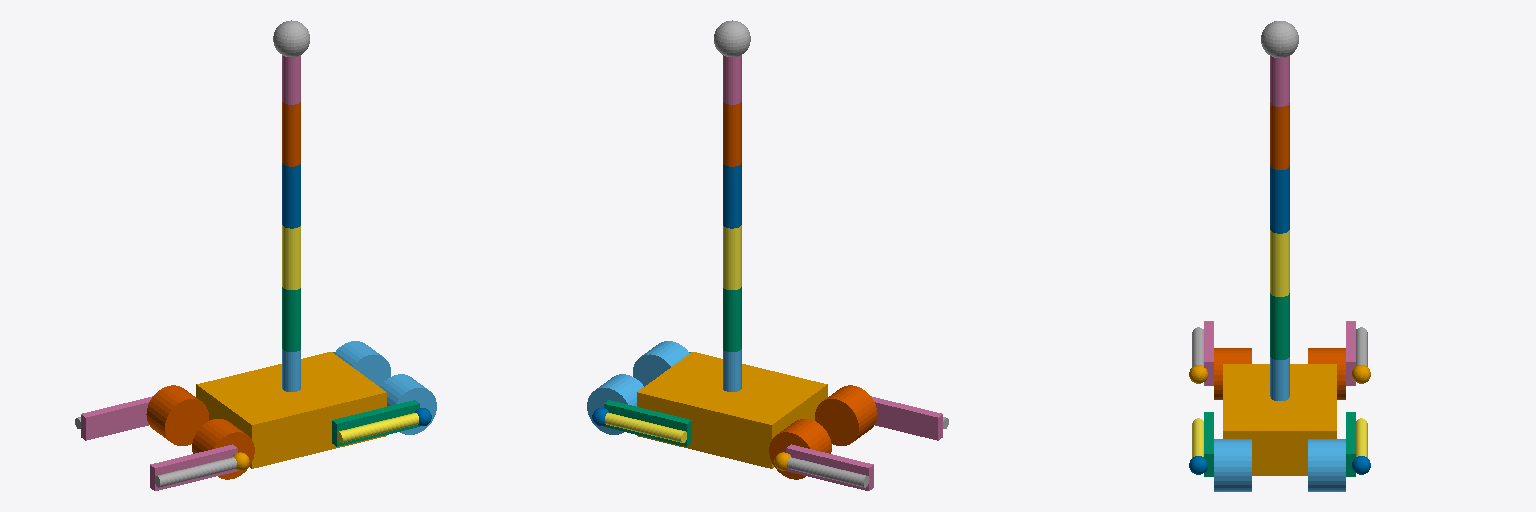
--- Render facts (derived) ---
3 views of the same robot in one strip: view 1: azimuth 30°, elevation 25°; view 2: azimuth 150°, elevation 25°; view 3: azimuth 270°, elevation 25° (orthographic).
Robot: spirit — 24 links, 23 joints (18 revolute, 5 fixed); root link body; default pose: every joint at zero.
Visible links, largest first — view 1: body, hip1, upper1, hip3, hip2, upper2, upper3, hip0, tail_link_1, tail_link_4, tail_link_3, tail_link_2 (+5 smaller); view 2: body, hip3, upper3, hip1, hip0, upper0, upper1, hip2, tail_link_1, tail_link_4, tail_link_3, tail_link_2 (+5 smaller); view 3: body, hip0, hip2, tail_link_3, tail_link_2, tail_link_4, tail_link_1, tail_mass, tail_link_5, hip1, hip3, tail_link_0 (+4 smaller).
Boxes of the visible links, x1=… form: body: x1=196, y1=352, x2=386, y2=468; hip1: x1=146, y1=385, x2=208, y2=445; upper1: x1=81, y1=396, x2=152, y2=440; hip3: x1=192, y1=419, x2=254, y2=479; hip2: x1=380, y1=374, x2=436, y2=434; upper2: x1=332, y1=400, x2=419, y2=446; upper3: x1=150, y1=444, x2=237, y2=490; hip0: x1=334, y1=341, x2=390, y2=386; tail_link_1: x1=282, y1=287, x2=300, y2=351; tail_link_4: x1=282, y1=101, x2=300, y2=166; tail_link_3: x1=282, y1=163, x2=300, y2=228; tail_link_2: x1=282, y1=225, x2=300, y2=289; body: x1=637, y1=352, x2=827, y2=468; hip3: x1=815, y1=385, x2=877, y2=445; upper3: x1=871, y1=396, x2=942, y2=440; hip1: x1=769, y1=419, x2=831, y2=479; hip0: x1=587, y1=374, x2=643, y2=434; upper0: x1=604, y1=400, x2=691, y2=446; upper1: x1=786, y1=444, x2=873, y2=490; hip2: x1=633, y1=341, x2=689, y2=386; tail_link_1: x1=723, y1=287, x2=741, y2=351; tail_link_4: x1=723, y1=101, x2=741, y2=166; tail_link_3: x1=723, y1=163, x2=741, y2=228; tail_link_2: x1=723, y1=225, x2=741, y2=289; body: x1=1223, y1=364, x2=1336, y2=475; hip0: x1=1308, y1=439, x2=1345, y2=491; hip2: x1=1214, y1=439, x2=1251, y2=491; tail_link_3: x1=1270, y1=166, x2=1289, y2=233; tail_link_2: x1=1270, y1=230, x2=1289, y2=296; tail_link_4: x1=1270, y1=103, x2=1289, y2=169; tail_link_1: x1=1270, y1=293, x2=1289, y2=359; tail_mass: x1=1261, y1=21, x2=1298, y2=57; tail_link_5: x1=1270, y1=56, x2=1289, y2=106; hip1: x1=1308, y1=348, x2=1345, y2=399; hip3: x1=1214, y1=348, x2=1251, y2=399; tail_link_0: x1=1270, y1=357, x2=1289, y2=400.
Bounding box of the posed robot: 0.7136 × 0.382 × 0.9766 m (x, y, z).
Geometry: primitives only (box / cylinder / sphere), no mesh files.

robot.urdf — spirit:
<?xml version="1.0" encoding="utf-8"?>
<!-- =================================================================================== -->
<!-- |    This document was autogenerated by xacro from xacro/spirit_gazebo_tail.urdf.xacro | -->
<!-- |    EDITING THIS FILE BY HAND IS NOT RECOMMENDED                                 | -->
<!-- =================================================================================== -->
<!-- 
MIT License (modified)

Copyright (c) 2020 Ghost Robotics
Authors:
Avik De <[email redacted]>
Tom Jacobs <[email redacted]>

Permission is hereby granted, free of charge, to any person obtaining a copy
of this **file** (the "Software"), to deal
in the Software without restriction, including without limitation the rights
to use, copy, modify, merge, publish, distribute, sublicense, and/or sell
copies of the Software, and to permit persons to whom the Software is
furnished to do so, subject to the following conditions:

The above copyright notice and this permission notice shall be included in all
copies or substantial portions of the Software.

THE SOFTWARE IS PROVIDED "AS IS", WITHOUT WARRANTY OF ANY KIND, EXPRESS OR
IMPLIED, INCLUDING BUT NOT LIMITED TO THE WARRANTIES OF MERCHANTABILITY,
FITNESS FOR A PARTICULAR PURPOSE AND NONINFRINGEMENT. IN NO EVENT SHALL THE
AUTHORS OR COPYRIGHT HOLDERS BE LIABLE FOR ANY CLAIM, DAMAGES OR OTHER
LIABILITY, WHETHER IN AN ACTION OF CONTRACT, TORT OR OTHERWISE, ARISING FROM,
OUT OF OR IN CONNECTION WITH THE SOFTWARE OR THE USE OR OTHER DEALINGS IN THE
SOFTWARE. 
-->
<robot name="spirit">
  <!-- Plugins -->
  <gazebo>
    <plugin filename="libgazebo_ros_control.so" name="gazebo_ros_control">
      <robotNamespace>/spirit</robotNamespace>
      <controlPeriod>0.002</controlPeriod>
    </plugin>
    <plugin filename="libground_truth_estimator.so" name="ground_truth_estimator">
      <updateRateHz>500.0</updateRateHz>
    </plugin>
  </gazebo>
  <!--link name="body_dummy">
		<inertial>
			<mass value="${bodyMass}" />
			<inertia ixx="0.05" ixy="0" ixz="0" iyy="0.1" iyz="0" izz="0.1" />
		</inertial>
	</link>
	<joint name="dummy_joint" type="fixed">
		<parent link="body_dummy" />
		<child link="body" />
	</joint-->
  <!-- Body -->
  <link name="body">
    <visual>
      <origin rpy="0 0 0" xyz="0 0 0"/>
      <geometry>
        <box size="0.335 0.24 0.104"/>
      </geometry>
      <material name="darkgray"/>
    </visual>
    <inertial>
      <mass value="7.388"/>
      <!--<mass value="${bodyMass}" /> -->
      <!-- Uniform box -->
      <!-- <inertia ixx="1/12*${bodyMass}*(${bodyWidth}*${bodyWidth} + ${bodyHeight}*${bodyHeight})"  ixy="0"  ixz="0" iyy="1/12*${bodyMass}*(${bodyLength}*${bodyLength} + ${bodyHeight}*${bodyHeight})" iyz="0" izz="1/12*${bodyMass}*(${bodyLength}*${bodyLength} + ${bodyWidth}*${bodyWidth})"/> -->
      <inertia ixx="0.0642434782" ixy="0" ixz="0" iyy="0.1284869565" iyz="0" izz="0.1284869565"/>
      <!--<inertia ixx="0.05" ixy="0" ixz="0" iyy="0.1" iyz="0" izz="0.1" />-->
    </inertial>
    <!-- Just copy geometry for collision -->
    <collision>
      <origin rpy="0 0 0" xyz="0 0 0"/>
      <geometry>
        <box size="0.335 0.24 0.104"/>
      </geometry>
    </collision>
  </link>
  <gazebo reference="body">
    <material>Gazebo/Black</material>
  </gazebo>
  <!-- Hip motor -->
  <link name="hip0">
    <visual>
      <origin rpy="1.5707963268 0 0" xyz="0 0.028 0"/>
      <geometry>
        <cylinder length="0.08" radius="0.055"/>
      </geometry>
    </visual>
    <collision>
      <origin rpy="1.5707963268 0 0" xyz="0 0.028 0"/>
      <geometry>
        <cylinder length="0.08" radius="0.055"/>
      </geometry>
    </collision>
    <inertial>
      <origin rpy="1.5707963268 0 0" xyz="0 0.028 0"/>
      <mass value="0.575"/>
      <inertia ixx="0.000741510416667" ixy="0" ixz="0" iyy="0.000741510416667" iyz="0" izz="0.0008696875"/>
      <!-- Okay for now... forgot when cylinder is formed what direction is x pointing in -->
      <!--inertia ixx="0.00066963541" ixy="0" ixz="0" iyy="0.00066963541" iyz="0" izz="0.0008696875" /-->
    </inertial>
  </link>
  <gazebo reference="hip0">
    <material>Gazebo/Grey</material>
  </gazebo>
  <!-- Abduction joint. Joint names are: 8 9 10 11 -->
  <joint name="8" type="revolute">
    <parent link="body"/>
    <child link="hip0"/>
    <axis xyz="1 0 0"/>
    <origin xyz="0.2263 0.07 0"/>
    <limit effort="21" lower="-0.707" upper="0.707" velocity="37.7"/>
    <dynamics damping="0.0" friction="0.0"/>
  </joint>
  <!-- Transmission elements required for Gazebo -->
  <transmission name="transmission_8">
    <type>transmission_interface/SimpleTransmission</type>
    <joint name="8">
      <hardwareInterface>hardware_interface/EffortJointInterface</hardwareInterface>
    </joint>
    <actuator name="motor_8">
      <hardwareInterface>EffortJointInterface</hardwareInterface>
      <mechanicalReduction>1</mechanicalReduction>
    </actuator>
  </transmission>
  <!-- Upper leg -->
  <link name="upper0">
    <visual>
      <origin rpy="0 0 0" xyz="-0.103 -0.022 0"/>
      <geometry>
        <box size="0.206 0.022 0.055"/>
      </geometry>
      <material name="silver"/>
    </visual>
    <collision>
      <origin rpy="0 0 0" xyz="-0.103 -0.022 0"/>
      <geometry>
        <box size="0.206 0.022 0.055"/>
      </geometry>
    </collision>
    <inertial>
      <origin rpy="0 0 0" xyz="-0.103 -0.022 0"/>
      <mass value="0.792"/>
      <!--<inertia ixx="${upperLegIxx}" ixy="0" ixz="0" iyy="${upperLegIyy}" iyz="0" izz="${upperLegIzz}" /> -->
      <inertia ixx="0.000231594" ixy="0" ixz="0" iyy="0.003000426" iyz="0" izz="0.00283272"/>
    </inertial>
  </link>
  <gazebo reference="upper0">
    <self_collide>0</self_collide>
    <material>Gazebo/DarkGrey</material>
  </gazebo>
  <!-- Hip joint. (Motor to upper leg). Joint names are: 0 2 4 6 -->
  <joint name="0" type="revolute">
    <parent link="hip0"/>
    <child link="upper0"/>
    <axis xyz="0 -1 0"/>
    <origin xyz="0 0.10098 0"/>
    <!--  rpy="0 -0.3 0" -->
    <limit effort="21" lower="-1.57" upper="3.14" velocity="37.7"/>
    <dynamics damping="0.0" friction="0.0"/>
  </joint>
  <!-- Transmission elements required for Gazebo -->
  <transmission name="transmission_0">
    <type>transmission_interface/SimpleTransmission</type>
    <joint name="0">
      <hardwareInterface>hardware_interface/EffortJointInterface</hardwareInterface>
    </joint>
    <actuator name="motor_0">
      <hardwareInterface>EffortJointInterface</hardwareInterface>
      <mechanicalReduction>1</mechanicalReduction>
    </actuator>
  </transmission>
  <!-- Lower leg -->
  <link name="lower0">
    <self_collide>0</self_collide>
    <visual>
      <origin rpy="0 1.5707963268 0" xyz="0.103 0 0"/>
      <geometry>
        <cylinder length="0.206" radius="0.013"/>
      </geometry>
      <material name="darkgray"/>
    </visual>
    <collision>
      <origin rpy="0 1.5707963268 0" xyz="0.103 0 0"/>
      <geometry>
        <cylinder length="0.206" radius="0.013"/>
      </geometry>
    </collision>
    <inertial>
      <origin rpy="0 0 0" xyz="0.103 0 0"/>
      <mass value="0.075"/>
      <!--inertia ixx="${lowerLegIxx}" ixy="0" ixz="0" iyy="${lowerLegIyy}" iyz="0" izz="${lowerLegIzz}" /-->
      <inertia ixx="2.193125e-05" ixy="0" ixz="0" iyy="0.00028413125" iyz="0" izz="0.00026825"/>
    </inertial>
  </link>
  <gazebo reference="lower0">
    <material>Gazebo/Grey</material>
  </gazebo>
  <!-- Knee joint. Joint names are: 1 3 5 7 -->
  <joint name="1" type="revolute">
    <parent link="upper0"/>
    <child link="lower0"/>
    <axis xyz="0 1 0"/>
    <origin xyz="-0.206 0 0"/>
    <!--rpy="0 0.5 0"-->
    <!--<limit effort="${jointEffortLimit}" velocity="${jointSpeedLimit}" lower="0" upper="${pi}" />-->
    <limit effort="32" lower="-6.28" upper="6.28" velocity="25.1"/>
    <dynamics damping="0.0" friction="0.0"/>
  </joint>
  <!-- Transmission elements required for Gazebo -->
  <transmission name="transmission_1">
    <type>transmission_interface/SimpleTransmission</type>
    <joint name="1">
      <hardwareInterface>hardware_interface/EffortJointInterface</hardwareInterface>
    </joint>
    <actuator name="motor_1">
      <hardwareInterface>EffortJointInterface</hardwareInterface>
      <mechanicalReduction>1</mechanicalReduction>
    </actuator>
  </transmission>
  <!-- Toe -->
  <link name="toe0">
    <contact>
      <friction_anchor/>
      <stiffness value="30000.0"/>
      <damping value="1000.0"/>
      <spinning_friction value="0.3"/>
      <lateral_friction value="50.0"/>
    </contact>
    <visual>
      <origin rpy="0 0 0" xyz="0 0 0"/>
      <geometry>
        <sphere radius="0.02"/>
      </geometry>
      <material name="darkgray"/>
    </visual>
    <collision>
      <origin rpy="0 0 0" xyz="0 0 0"/>
      <geometry>
        <sphere radius="0.02"/>
      </geometry>
    </collision>
    <inertial>
      <mass value="0.015"/>
      <inertia ixx="0.000025" ixy="0" ixz="0" iyy="0.000025" iyz="0" izz="0.000025"/>
      <!-- <inertia ixx="2/5*${toeMass}*${toeRadius}*${toeRadius}"  ixy="0"  ixz="0" iyy="2/5*${toeMass}*${toeRadius}*${toeRadius}" iyz="0" izz="2/5*${toeMass}*${toeRadius}*${toeRadius}" /> -->
    </inertial>
  </link>
  <gazebo reference="toe0">
    <self_collide>0</self_collide>
    <material>Gazebo/Black</material>
    <collision>
      <surface>
        <bounce>
          <restitution_coefficient>0</restitution_coefficient>
          <threshold>1e+06</threshold>
        </bounce>
        <friction>
          <torsional>
            <coefficient>0.3</coefficient>
          </torsional>
          <ode>
            <mu>100.0</mu>
            <mu2>50.0</mu2>
          </ode>
          <bullet>
            <rolling_friction>0.3</rolling_friction>
            <friction2>50.0</friction2>
          </bullet>
        </friction>
        <contact>
          <bullet>
            <kp>30000.0</kp>
            <kd>1000.0</kd>
          </bullet>
          <ode>
            <kp>30000.0</kp>
            <kd>1000.0</kd>
          </ode>
        </contact>
      </surface>
    </collision>
  </gazebo>
  <joint name="jtoe0" type="fixed">
    <parent link="lower0"/>
    <child link="toe0"/>
    <origin xyz="0.206 0 -0.0"/>
    <dynamics damping="0.0" friction="0.0"/>
  </joint>
  <!-- Hip motor -->
  <link name="hip1">
    <visual>
      <origin rpy="1.5707963268 0 0" xyz="0 0.028 0"/>
      <geometry>
        <cylinder length="0.08" radius="0.055"/>
      </geometry>
    </visual>
    <collision>
      <origin rpy="1.5707963268 0 0" xyz="0 0.028 0"/>
      <geometry>
        <cylinder length="0.08" radius="0.055"/>
      </geometry>
    </collision>
    <inertial>
      <origin rpy="1.5707963268 0 0" xyz="0 0.028 0"/>
      <mass value="0.575"/>
      <inertia ixx="0.000741510416667" ixy="0" ixz="0" iyy="0.000741510416667" iyz="0" izz="0.0008696875"/>
      <!-- Okay for now... forgot when cylinder is formed what direction is x pointing in -->
      <!--inertia ixx="0.00066963541" ixy="0" ixz="0" iyy="0.00066963541" iyz="0" izz="0.0008696875" /-->
    </inertial>
  </link>
  <gazebo reference="hip1">
    <material>Gazebo/Grey</material>
  </gazebo>
  <!-- Abduction joint. Joint names are: 8 9 10 11 -->
  <joint name="9" type="revolute">
    <parent link="body"/>
    <child link="hip1"/>
    <axis xyz="1 0 0"/>
    <origin xyz="-0.2263 0.07 0"/>
    <limit effort="21" lower="-0.707" upper="0.707" velocity="37.7"/>
    <dynamics damping="0.0" friction="0.0"/>
  </joint>
  <!-- Transmission elements required for Gazebo -->
  <transmission name="transmission_9">
    <type>transmission_interface/SimpleTransmission</type>
    <joint name="9">
      <hardwareInterface>hardware_interface/EffortJointInterface</hardwareInterface>
    </joint>
    <actuator name="motor_9">
      <hardwareInterface>EffortJointInterface</hardwareInterface>
      <mechanicalReduction>1</mechanicalReduction>
    </actuator>
  </transmission>
  <!-- Upper leg -->
  <link name="upper1">
    <visual>
      <origin rpy="0 0 0" xyz="-0.103 -0.022 0"/>
      <geometry>
        <box size="0.206 0.022 0.055"/>
      </geometry>
      <material name="silver"/>
    </visual>
    <collision>
      <origin rpy="0 0 0" xyz="-0.103 -0.022 0"/>
      <geometry>
        <box size="0.206 0.022 0.055"/>
      </geometry>
    </collision>
    <inertial>
      <origin rpy="0 0 0" xyz="-0.103 -0.022 0"/>
      <mass value="0.792"/>
      <!--<inertia ixx="${upperLegIxx}" ixy="0" ixz="0" iyy="${upperLegIyy}" iyz="0" izz="${upperLegIzz}" /> -->
      <inertia ixx="0.000231594" ixy="0" ixz="0" iyy="0.003000426" iyz="0" izz="0.00283272"/>
    </inertial>
  </link>
  <gazebo reference="upper1">
    <self_collide>0</self_collide>
    <material>Gazebo/DarkGrey</material>
  </gazebo>
  <!-- Hip joint. (Motor to upper leg). Joint names are: 0 2 4 6 -->
  <joint name="2" type="revolute">
    <parent link="hip1"/>
    <child link="upper1"/>
    <axis xyz="0 -1 0"/>
    <origin xyz="0 0.10098 0"/>
    <!--  rpy="0 -0.3 0" -->
    <limit effort="21" lower="-1.57" upper="3.14" velocity="37.7"/>
    <dynamics damping="0.0" friction="0.0"/>
  </joint>
  <!-- Transmission elements required for Gazebo -->
  <transmission name="transmission_2">
    <type>transmission_interface/SimpleTransmission</type>
    <joint name="2">
      <hardwareInterface>hardware_interface/EffortJointInterface</hardwareInterface>
    </joint>
    <actuator name="motor_2">
      <hardwareInterface>EffortJointInterface</hardwareInterface>
      <mechanicalReduction>1</mechanicalReduction>
    </actuator>
  </transmission>
  <!-- Lower leg -->
  <link name="lower1">
    <self_collide>0</self_collide>
    <visual>
      <origin rpy="0 1.5707963268 0" xyz="0.103 0 0"/>
      <geometry>
        <cylinder length="0.206" radius="0.013"/>
      </geometry>
      <material name="darkgray"/>
    </visual>
    <collision>
      <origin rpy="0 1.5707963268 0" xyz="0.103 0 0"/>
      <geometry>
        <cylinder length="0.206" radius="0.013"/>
      </geometry>
    </collision>
    <inertial>
      <origin rpy="0 0 0" xyz="0.103 0 0"/>
      <mass value="0.075"/>
      <!--inertia ixx="${lowerLegIxx}" ixy="0" ixz="0" iyy="${lowerLegIyy}" iyz="0" izz="${lowerLegIzz}" /-->
      <inertia ixx="2.193125e-05" ixy="0" ixz="0" iyy="0.00028413125" iyz="0" izz="0.00026825"/>
    </inertial>
  </link>
  <gazebo reference="lower1">
    <material>Gazebo/Grey</material>
  </gazebo>
  <!-- Knee joint. Joint names are: 1 3 5 7 -->
  <joint name="3" type="revolute">
    <parent link="upper1"/>
    <child link="lower1"/>
    <axis xyz="0 1 0"/>
    <origin xyz="-0.206 0 0"/>
    <!--rpy="0 0.5 0"-->
    <!--<limit effort="${jointEffortLimit}" velocity="${jointSpeedLimit}" lower="0" upper="${pi}" />-->
    <limit effort="32" lower="-6.28" upper="6.28" velocity="25.1"/>
    <dynamics damping="0.0" friction="0.0"/>
  </joint>
  <!-- Transmission elements required for Gazebo -->
  <transmission name="transmission_3">
    <type>transmission_interface/SimpleTransmission</type>
    <joint name="3">
      <hardwareInterface>hardware_interface/EffortJointInterface</hardwareInterface>
    </joint>
    <actuator name="motor_3">
      <hardwareInterface>EffortJointInterface</hardwareInterface>
      <mechanicalReduction>1</mechanicalReduction>
    </actuator>
  </transmission>
  <!-- Toe -->
  <link name="toe1">
    <contact>
      <friction_anchor/>
      <stiffness value="30000.0"/>
      <damping value="1000.0"/>
      <spinning_friction value="0.3"/>
      <lateral_friction value="50.0"/>
    </contact>
    <visual>
      <origin rpy="0 0 0" xyz="0 0 0"/>
      <geometry>
        <sphere radius="0.02"/>
      </geometry>
      <material name="darkgray"/>
    </visual>
    <collision>
      <origin rpy="0 0 0" xyz="0 0 0"/>
      <geometry>
        <sphere radius="0.02"/>
      </geometry>
    </collision>
    <inertial>
      <mass value="0.015"/>
      <inertia ixx="0.000025" ixy="0" ixz="0" iyy="0.000025" iyz="0" izz="0.000025"/>
      <!-- <inertia ixx="2/5*${toeMass}*${toeRadius}*${toeRadius}"  ixy="0"  ixz="0" iyy="2/5*${toeMass}*${toeRadius}*${toeRadius}" iyz="0" izz="2/5*${toeMass}*${toeRadius}*${toeRadius}" /> -->
    </inertial>
  </link>
  <gazebo reference="toe1">
    <self_collide>0</self_collide>
    <material>Gazebo/Black</material>
    <collision>
      <surface>
        <bounce>
          <restitution_coefficient>0</restitution_coefficient>
          <threshold>1e+06</threshold>
        </bounce>
        <friction>
          <torsional>
            <coefficient>0.3</coefficient>
          </torsional>
          <ode>
            <mu>100.0</mu>
            <mu2>50.0</mu2>
          </ode>
          <bullet>
            <rolling_friction>0.3</rolling_friction>
            <friction2>50.0</friction2>
          </bullet>
        </friction>
        <contact>
          <bullet>
            <kp>30000.0</kp>
            <kd>1000.0</kd>
          </bullet>
          <ode>
            <kp>30000.0</kp>
            <kd>1000.0</kd>
          </ode>
        </contact>
      </surface>
    </collision>
  </gazebo>
  <joint name="jtoe1" type="fixed">
    <parent link="lower1"/>
    <child link="toe1"/>
    <origin xyz="0.206 0 -0.0"/>
    <dynamics damping="0.0" friction="0.0"/>
  </joint>
  <!-- Hip motor -->
  <link name="hip2">
    <visual>
      <origin rpy="1.5707963268 0 0" xyz="0 -0.028 0"/>
      <geometry>
        <cylinder length="0.08" radius="0.055"/>
      </geometry>
    </visual>
    <collision>
      <origin rpy="1.5707963268 0 0" xyz="0 -0.028 0"/>
      <geometry>
        <cylinder length="0.08" radius="0.055"/>
      </geometry>
    </collision>
    <inertial>
      <origin rpy="1.5707963268 0 0" xyz="0 -0.028 0"/>
      <mass value="0.575"/>
      <inertia ixx="0.000741510416667" ixy="0" ixz="0" iyy="0.000741510416667" iyz="0" izz="0.0008696875"/>
      <!-- Okay for now... forgot when cylinder is formed what direction is x pointing in -->
      <!--inertia ixx="0.00066963541" ixy="0" ixz="0" iyy="0.00066963541" iyz="0" izz="0.0008696875" /-->
    </inertial>
  </link>
  <gazebo reference="hip2">
    <material>Gazebo/Grey</material>
  </gazebo>
  <!-- Abduction joint. Joint names are: 8 9 10 11 -->
  <joint name="10" type="revolute">
    <parent link="body"/>
    <child link="hip2"/>
    <axis xyz="1 0 0"/>
    <origin xyz="0.2263 -0.07 0"/>
    <limit effort="21" lower="-0.707" upper="0.707" velocity="37.7"/>
    <dynamics damping="0.0" friction="0.0"/>
  </joint>
  <!-- Transmission elements required for Gazebo -->
  <transmission name="transmission_10">
    <type>transmission_interface/SimpleTransmission</type>
    <joint name="10">
      <hardwareInterface>hardware_interface/EffortJointInterface</hardwareInterface>
    </joint>
    <actuator name="motor_10">
      <hardwareInterface>EffortJointInterface</hardwareInterface>
      <mechanicalReduction>1</mechanicalReduction>
    </actuator>
  </transmission>
  <!-- Upper leg -->
  <link name="upper2">
    <visual>
      <origin rpy="0 0 0" xyz="-0.103 0.022 0"/>
      <geometry>
        <box size="0.206 0.022 0.055"/>
      </geometry>
      <material name="silver"/>
    </visual>
    <collision>
      <origin rpy="0 0 0" xyz="-0.103 0.022 0"/>
      <geometry>
        <box size="0.206 0.022 0.055"/>
      </geometry>
    </collision>
    <inertial>
      <origin rpy="0 0 0" xyz="-0.103 0.022 0"/>
      <mass value="0.792"/>
      <!--<inertia ixx="${upperLegIxx}" ixy="0" ixz="0" iyy="${upperLegIyy}" iyz="0" izz="${upperLegIzz}" /> -->
      <inertia ixx="0.000231594" ixy="0" ixz="0" iyy="0.003000426" iyz="0" izz="0.00283272"/>
    </inertial>
  </link>
  <gazebo reference="upper2">
    <self_collide>0</self_collide>
    <material>Gazebo/DarkGrey</material>
  </gazebo>
  <!-- Hip joint. (Motor to upper leg). Joint names are: 0 2 4 6 -->
  <joint name="4" type="revolute">
    <parent link="hip2"/>
    <child link="upper2"/>
    <axis xyz="0 -1 0"/>
    <origin xyz="0 -0.10098 0"/>
    <!--  rpy="0 -0.3 0" -->
    <limit effort="21" lower="-1.57" upper="3.14" velocity="37.7"/>
    <dynamics damping="0.0" friction="0.0"/>
  </joint>
  <!-- Transmission elements required for Gazebo -->
  <transmission name="transmission_4">
    <type>transmission_interface/SimpleTransmission</type>
    <joint name="4">
      <hardwareInterface>hardware_interface/EffortJointInterface</hardwareInterface>
    </joint>
    <actuator name="motor_4">
      <hardwareInterface>EffortJointInterface</hardwareInterface>
      <mechanicalReduction>1</mechanicalReduction>
    </actuator>
  </transmission>
  <!-- Lower leg -->
  <link name="lower2">
    <self_collide>0</self_collide>
    <visual>
      <origin rpy="0 1.5707963268 0" xyz="0.103 0 0"/>
      <geometry>
        <cylinder length="0.206" radius="0.013"/>
      </geometry>
      <material name="darkgray"/>
    </visual>
    <collision>
      <origin rpy="0 1.5707963268 0" xyz="0.103 0 0"/>
      <geometry>
        <cylinder length="0.206" radius="0.013"/>
      </geometry>
    </collision>
    <inertial>
      <origin rpy="0 0 0" xyz="0.103 0 0"/>
      <mass value="0.075"/>
      <!--inertia ixx="${lowerLegIxx}" ixy="0" ixz="0" iyy="${lowerLegIyy}" iyz="0" izz="${lowerLegIzz}" /-->
      <inertia ixx="2.193125e-05" ixy="0" ixz="0" iyy="0.00028413125" iyz="0" izz="0.00026825"/>
    </inertial>
  </link>
  <gazebo reference="lower2">
    <material>Gazebo/Grey</material>
  </gazebo>
  <!-- Knee joint. Joint names are: 1 3 5 7 -->
  <joint name="5" type="revolute">
    <parent link="upper2"/>
    <child link="lower2"/>
    <axis xyz="0 1 0"/>
    <origin xyz="-0.206 0 0"/>
    <!--rpy="0 0.5 0"-->
    <!--<limit effort="${jointEffortLimit}" velocity="${jointSpeedLimit}" lower="0" upper="${pi}" />-->
    <limit effort="32" lower="-6.28" upper="6.28" velocity="25.1"/>
    <dynamics damping="0.0" friction="0.0"/>
  </joint>
  <!-- Transmission elements required for Gazebo -->
  <transmission name="transmission_5">
    <type>transmission_interface/SimpleTransmission</type>
    <joint name="5">
      <hardwareInterface>hardware_interface/EffortJointInterface</hardwareInterface>
    </joint>
    <actuator name="motor_5">
      <hardwareInterface>EffortJointInterface</hardwareInterface>
      <mechanicalReduction>1</mechanicalReduction>
    </actuator>
  </transmission>
  <!-- Toe -->
  <link name="toe2">
    <contact>
      <friction_anchor/>
      <stiffness value="30000.0"/>
      <damping value="1000.0"/>
      <spinning_friction value="0.3"/>
      <lateral_friction value="50.0"/>
    </contact>
    <visual>
      <origin rpy="0 0 0" xyz="0 0 0"/>
      <geometry>
        <sphere radius="0.02"/>
      </geometry>
      <material name="darkgray"/>
    </visual>
    <collision>
      <origin rpy="0 0 0" xyz="0 0 0"/>
      <geometry>
        <sphere radius="0.02"/>
      </geometry>
    </collision>
    <inertial>
      <mass value="0.015"/>
      <inertia ixx="0.000025" ixy="0" ixz="0" iyy="0.000025" iyz="0" izz="0.000025"/>
      <!-- <inertia ixx="2/5*${toeMass}*${toeRadius}*${toeRadius}"  ixy="0"  ixz="0" iyy="2/5*${toeMass}*${toeRadius}*${toeRadius}" iyz="0" izz="2/5*${toeMass}*${toeRadius}*${toeRadius}" /> -->
    </inertial>
  </link>
  <gazebo reference="toe2">
    <self_collide>0</self_collide>
    <material>Gazebo/Black</material>
    <collision>
      <surface>
        <bounce>
          <restitution_coefficient>0</restitution_coefficient>
          <threshold>1e+06</threshold>
        </bounce>
        <friction>
          <torsional>
            <coefficient>0.3</coefficient>
          </torsional>
          <ode>
            <mu>100.0</mu>
            <mu2>50.0</mu2>
          </ode>
          <bullet>
            <rolling_friction>0.3</rolling_friction>
            <friction2>50.0</friction2>
          </bullet>
        </friction>
        <contact>
          <bullet>
            <kp>30000.0</kp>
            <kd>1000.0</kd>
          </bullet>
          <ode>
            <kp>30000.0</kp>
            <kd>1000.0</kd>
          </ode>
        </contact>
      </surface>
    </collision>
  </gazebo>
  <joint name="jtoe2" type="fixed">
    <parent link="lower2"/>
    <child link="toe2"/>
    <origin xyz="0.206 0 -0.0"/>
    <dynamics damping="0.0" friction="0.0"/>
  </joint>
  <!-- Hip motor -->
  <link name="hip3">
    <visual>
      <origin rpy="1.5707963268 0 0" xyz="0 -0.028 0"/>
      <geometry>
        <cylinder length="0.08" radius="0.055"/>
      </geometry>
    </visual>
    <collision>
      <origin rpy="1.5707963268 0 0" xyz="0 -0.028 0"/>
      <geometry>
        <cylinder length="0.08" radius="0.055"/>
      </geometry>
    </collision>
    <inertial>
      <origin rpy="1.5707963268 0 0" xyz="0 -0.028 0"/>
      <mass value="0.575"/>
      <inertia ixx="0.000741510416667" ixy="0" ixz="0" iyy="0.000741510416667" iyz="0" izz="0.0008696875"/>
      <!-- Okay for now... forgot when cylinder is formed what direction is x pointing in -->
      <!--inertia ixx="0.00066963541" ixy="0" ixz="0" iyy="0.00066963541" iyz="0" izz="0.0008696875" /-->
    </inertial>
  </link>
  <gazebo reference="hip3">
    <material>Gazebo/Grey</material>
  </gazebo>
  <!-- Abduction joint. Joint names are: 8 9 10 11 -->
  <joint name="11" type="revolute">
    <parent link="body"/>
    <child link="hip3"/>
    <axis xyz="1 0 0"/>
    <origin xyz="-0.2263 -0.07 0"/>
    <limit effort="21" lower="-0.707" upper="0.707" velocity="37.7"/>
    <dynamics damping="0.0" friction="0.0"/>
  </joint>
  <!-- Transmission elements required for Gazebo -->
  <transmission name="transmission_11">
    <type>transmission_interface/SimpleTransmission</type>
    <joint name="11">
      <hardwareInterface>hardware_interface/EffortJointInterface</hardwareInterface>
    </joint>
    <actuator name="motor_11">
      <hardwareInterface>EffortJointInterface</hardwareInterface>
      <mechanicalReduction>1</mechanicalReduction>
    </actuator>
  </transmission>
  <!-- Upper leg -->
  <link name="upper3">
    <visual>
      <origin rpy="0 0 0" xyz="-0.103 0.022 0"/>
      <geometry>
        <box size="0.206 0.022 0.055"/>
      </geometry>
      <material name="silver"/>
    </visual>
    <collision>
      <origin rpy="0 0 0" xyz="-0.103 0.022 0"/>
      <geometry>
        <box size="0.206 0.022 0.055"/>
      </geometry>
    </collision>
    <inertial>
      <origin rpy="0 0 0" xyz="-0.103 0.022 0"/>
      <mass value="0.792"/>
      <!--<inertia ixx="${upperLegIxx}" ixy="0" ixz="0" iyy="${upperLegIyy}" iyz="0" izz="${upperLegIzz}" /> -->
      <inertia ixx="0.000231594" ixy="0" ixz="0" iyy="0.003000426" iyz="0" izz="0.00283272"/>
    </inertial>
  </link>
  <gazebo reference="upper3">
    <self_collide>0</self_collide>
    <material>Gazebo/DarkGrey</material>
  </gazebo>
  <!-- Hip joint. (Motor to upper leg). Joint names are: 0 2 4 6 -->
  <joint name="6" type="revolute">
    <parent link="hip3"/>
    <child link="upper3"/>
    <axis xyz="0 -1 0"/>
    <origin xyz="0 -0.10098 0"/>
    <!--  rpy="0 -0.3 0" -->
    <limit effort="21" lower="-1.57" upper="3.14" velocity="37.7"/>
    <dynamics damping="0.0" friction="0.0"/>
  </joint>
  <!-- Transmission elements required for Gazebo -->
  <transmission name="transmission_6">
    <type>transmission_interface/SimpleTransmission</type>
    <joint name="6">
      <hardwareInterface>hardware_interface/EffortJointInterface</hardwareInterface>
    </joint>
    <actuator name="motor_6">
      <hardwareInterface>EffortJointInterface</hardwareInterface>
      <mechanicalReduction>1</mechanicalReduction>
    </actuator>
  </transmission>
  <!-- Lower leg -->
  <link name="lower3">
    <self_collide>0</self_collide>
    <visual>
      <origin rpy="0 1.5707963268 0" xyz="0.103 0 0"/>
      <geometry>
        <cylinder length="0.206" radius="0.013"/>
      </geometry>
      <material name="darkgray"/>
    </visual>
    <collision>
      <origin rpy="0 1.5707963268 0" xyz="0.103 0 0"/>
      <geometry>
        <cylinder length="0.206" radius="0.013"/>
      </geometry>
    </collision>
    <inertial>
      <origin rpy="0 0 0" xyz="0.103 0 0"/>
      <mass value="0.075"/>
      <!--inertia ixx="${lowerLegIxx}" ixy="0" ixz="0" iyy="${lowerLegIyy}" iyz="0" izz="${lowerLegIzz}" /-->
      <inertia ixx="2.193125e-05" ixy="0" ixz="0" iyy="0.00028413125" iyz="0" izz="0.00026825"/>
    </inertial>
  </link>
  <gazebo reference="lower3">
    <material>Gazebo/Grey</material>
  </gazebo>
  <!-- Knee joint. Joint names are: 1 3 5 7 -->
  <joint name="7" type="revolute">
    <parent link="upper3"/>
    <child link="lower3"/>
    <axis xyz="0 1 0"/>
    <origin xyz="-0.206 0 0"/>
    <!--rpy="0 0.5 0"-->
    <!--<limit effort="${jointEffortLimit}" velocity="${jointSpeedLimit}" lower="0" upper="${pi}" />-->
    <limit effort="32" lower="-6.28" upper="6.28" velocity="25.1"/>
    <dynamics damping="0.0" friction="0.0"/>
  </joint>
  <!-- Transmission elements required for Gazebo -->
  <transmission name="transmission_7">
    <type>transmission_interface/SimpleTransmission</type>
    <joint name="7">
      <hardwareInterface>hardware_interface/EffortJointInterface</hardwareInterface>
    </joint>
    <actuator name="motor_7">
      <hardwareInterface>EffortJointInterface</hardwareInterface>
      <mechanicalReduction>1</mechanicalReduction>
    </actuator>
  </transmission>
  <!-- Toe -->
  <link name="toe3">
    <contact>
      <friction_anchor/>
      <stiffness value="30000.0"/>
      <damping value="1000.0"/>
      <spinning_friction value="0.3"/>
      <lateral_friction value="50.0"/>
    </contact>
    <visual>
      <origin rpy="0 0 0" xyz="0 0 0"/>
      <geometry>
        <sphere radius="0.02"/>
      </geometry>
      <material name="darkgray"/>
    </visual>
    <collision>
      <origin rpy="0 0 0" xyz="0 0 0"/>
      <geometry>
        <sphere radius="0.02"/>
      </geometry>
    </collision>
    <inertial>
      <mass value="0.015"/>
      <inertia ixx="0.000025" ixy="0" ixz="0" iyy="0.000025" iyz="0" izz="0.000025"/>
      <!-- <inertia ixx="2/5*${toeMass}*${toeRadius}*${toeRadius}"  ixy="0"  ixz="0" iyy="2/5*${toeMass}*${toeRadius}*${toeRadius}" iyz="0" izz="2/5*${toeMass}*${toeRadius}*${toeRadius}" /> -->
    </inertial>
  </link>
  <gazebo reference="toe3">
    <self_collide>0</self_collide>
    <material>Gazebo/Black</material>
    <collision>
      <surface>
        <bounce>
          <restitution_coefficient>0</restitution_coefficient>
          <threshold>1e+06</threshold>
        </bounce>
        <friction>
          <torsional>
            <coefficient>0.3</coefficient>
          </torsional>
          <ode>
            <mu>100.0</mu>
            <mu2>50.0</mu2>
          </ode>
          <bullet>
            <rolling_friction>0.3</rolling_friction>
            <friction2>50.0</friction2>
          </bullet>
        </friction>
        <contact>
          <bullet>
            <kp>30000.0</kp>
            <kd>1000.0</kd>
          </bullet>
          <ode>
            <kp>30000.0</kp>
            <kd>1000.0</kd>
          </ode>
        </contact>
      </surface>
    </collision>
  </gazebo>
  <joint name="jtoe3" type="fixed">
    <parent link="lower3"/>
    <child link="toe3"/>
    <origin xyz="0.206 0 -0.0"/>
    <dynamics damping="0.0" friction="0.0"/>
  </joint>
  <!-- Toe Plugins -->
  <gazebo reference="toe0">
    <sensor name="toe0_contact" type="contact">
      <plugin filename="libgazebo_ros_bumper.so" name="toe0_plugin">
        <alwaysOn>true</alwaysOn>
        <updateRate>500</updateRate>
        <bumperTopicName>gazebo/toe0_contact_state</bumperTopicName>
        <frameName>world</frameName>
      </plugin>
      <contact>
        <collision>toe0_collision</collision>
      </contact>
      <update_rate>500</update_rate>
    </sensor>
  </gazebo>
  <gazebo reference="toe1">
    <sensor name="toe1_contact" type="contact">
      <plugin filename="libgazebo_ros_bumper.so" name="toe1_plugin">
        <alwaysOn>true</alwaysOn>
        <updateRate>500</updateRate>
        <bumperTopicName>gazebo/toe1_contact_state</bumperTopicName>
        <frameName>world</frameName>
      </plugin>
      <contact>
        <collision>toe1_collision</collision>
      </contact>
      <update_rate>500</update_rate>
    </sensor>
  </gazebo>
  <gazebo reference="toe2">
    <sensor name="toe2_contact" type="contact">
      <plugin filename="libgazebo_ros_bumper.so" name="toe2_plugin">
        <alwaysOn>true</alwaysOn>
        <updateRate>500</updateRate>
        <bumperTopicName>gazebo/toe2_contact_state</bumperTopicName>
        <frameName>world</frameName>
      </plugin>
      <contact>
        <collision>toe2_collision</collision>
      </contact>
      <update_rate>500</update_rate>
    </sensor>
  </gazebo>
  <gazebo reference="toe3">
    <sensor name="toe3_contact" type="contact">
      <plugin filename="libgazebo_ros_bumper.so" name="toe3_plugin">
        <alwaysOn>true</alwaysOn>
        <updateRate>500</updateRate>
        <bumperTopicName>gazebo/toe3_contact_state</bumperTopicName>
        <frameName>world</frameName>
      </plugin>
      <contact>
        <collision>toe3_collision</collision>
      </contact>
      <update_rate>500</update_rate>
    </sensor>
  </gazebo>
  <!-- Preserve fixed joints -->
  <gazebo reference="jtoe0">
    <preserveFixedJoint>true</preserveFixedJoint>
  </gazebo>
  <gazebo reference="jtoe1">
    <preserveFixedJoint>true</preserveFixedJoint>
  </gazebo>
  <gazebo reference="jtoe2">
    <preserveFixedJoint>true</preserveFixedJoint>
  </gazebo>
  <gazebo reference="jtoe3">
    <preserveFixedJoint>true</preserveFixedJoint>
  </gazebo>
  <!-- TAIL -->
  <!-- Remark: Need to incorporate reasonable mass & inertia calc wrt tailLength -->
  <!-- Tail Links -->
  <link name="tail_link_0">
    <visual>
      <origin rpy="0 0 0" xyz="0 0 0.0734666666667"/>
      <geometry>
        <cylinder length="0.146933333333" radius="0.02"/>
      </geometry>
      <material name="gray"/>
    </visual>
    <inertial>
      <origin rpy="0 0 0" xyz="0 0 0.0734666666667"/>
      <mass value="0.001"/>
      <!--<inertia ixx="${tailLinkMass/12*(3*0.02*0.02 + tailLength*tailLength)}" ixy="0" ixz="0" iyy="${tailLinkMass/12*(3*0.02*0.02 + tailLength*tailLength)}" iyz="0.0" izz="${tailLinkMass*(0.02*0.02)/2}" /> -->
      <!-- Assume inertia of a sphere & scale base of 2/5MR^2 -->
      <inertia ixx="2.77777777778e-06" ixy="0" ixz="0" iyy="2.77777777778e-06" iyz="0" izz="2.77777777778e-06"/>
    </inertial>
    <!-- No need to add collision boxes for this -->
  </link>
  <gazebo reference="tail_link_0">
    <material>Gazebo/Gray</material>
  </gazebo>
  <link name="tail_link_1">
    <visual>
      <origin rpy="0 0 0" xyz="0 0 0.0734666666667"/>
      <geometry>
        <cylinder length="0.146933333333" radius="0.02"/>
      </geometry>
      <material name="gray"/>
    </visual>
    <inertial>
      <origin rpy="0 0 0" xyz="0 0 0.0734666666667"/>
      <mass value="0.001"/>
      <inertia ixx="2.77777777778e-06" ixy="0" ixz="0" iyy="2.77777777778e-06" iyz="0" izz="2.77777777778e-06"/>
    </inertial>
  </link>
  <gazebo reference="tail_link_1">
    <material>Gazebo/Gray</material>
  </gazebo>
  <link name="tail_link_2">
    <visual>
      <origin rpy="0 0 0" xyz="0 0 0.0734666666667"/>
      <geometry>
        <cylinder length="0.146933333333" radius="0.02"/>
      </geometry>
      <material name="gray"/>
    </visual>
    <inertial>
      <origin rpy="0 0 0" xyz="0 0 0.0734666666667"/>
      <mass value="0.001"/>
      <inertia ixx="2.77777777778e-06" ixy="0" ixz="0" iyy="2.77777777778e-06" iyz="0" izz="2.77777777778e-06"/>
    </inertial>
  </link>
  <gazebo reference="tail_link_2">
    <material>Gazebo/Gray</material>
  </gazebo>
  <link name="tail_link_3">
    <visual>
      <origin rpy="0 0 0" xyz="0 0 0.0734666666667"/>
      <geometry>
        <cylinder length="0.146933333333" radius="0.02"/>
      </geometry>
      <material name="gray"/>
    </visual>
    <inertial>
      <origin rpy="0 0 0" xyz="0 0 0.0734666666667"/>
      <mass value="0.001"/>
      <inertia ixx="2.77777777778e-06" ixy="0" ixz="0" iyy="2.77777777778e-06" iyz="0" izz="2.77777777778e-06"/>
    </inertial>
  </link>
  <gazebo reference="tail_link_3">
    <material>Gazebo/Gray</material>
  </gazebo>
  <link name="tail_link_4">
    <visual>
      <origin rpy="0 0 0" xyz="0 0 0.0734666666667"/>
      <geometry>
        <cylinder length="0.146933333333" radius="0.02"/>
      </geometry>
      <material name="gray"/>
    </visual>
    <inertial>
      <origin rpy="0 0 0" xyz="0 0 0.0734666666667"/>
      <mass value="0.001"/>
      <inertia ixx="2.77777777778e-06" ixy="0" ixz="0" iyy="2.77777777778e-06" iyz="0" izz="2.77777777778e-06"/>
    </inertial>
  </link>
  <gazebo reference="tail_link_4">
    <material>Gazebo/Gray</material>
  </gazebo>
  <link name="tail_link_5">
    <visual>
      <origin rpy="0 0 0" xyz="0 0 0.0734666666667"/>
      <geometry>
        <cylinder length="0.146933333333" radius="0.02"/>
      </geometry>
      <material name="gray"/>
    </visual>
    <inertial>
      <origin rpy="0 0 0" xyz="0 0 0.0734666666667"/>
      <mass value="0.001"/>
      <inertia ixx="2.77777777778e-06" ixy="0" ixz="0" iyy="2.77777777778e-06" iyz="0" izz="2.77777777778e-06"/>
    </inertial>
  </link>
  <gazebo reference="tail_link_5">
    <material>Gazebo/Gray</material>
  </gazebo>
  <!--
	<link name="tail_link_6">
		<visual>
			<origin rpy="0 0 0" xyz="0 0 ${tailLength/2}" />
			<geometry>
				<cylinder radius="0.02" length="${tailLength}" />
			</geometry>
			<material name="gray" />
		</visual>
		<inertial>
			<origin xyz="0 0 ${tailLength/2}" rpy="0 0 0" />
			<mass value="${tailLinkMass}" />
			<inertia ixx="${1e-04/(tailNum*tailNum)}" ixy="0" ixz="0" iyy="${1e-04/(tailNum*tailNum)}" iyz="0" izz="${1e-04/(tailNum*tailNum)}" />
		</inertial>
	</link>

	<gazebo reference="tail_link_6">
		<material>Gazebo/Gray</material>
	</gazebo>
	
	<link name="tail_link_7">
		<visual>
			<origin rpy="0 0 0" xyz="0 0 ${tailLength/2}" />
			<geometry>
				<cylinder radius="0.02" length="${tailLength}" />
			</geometry>
			<material name="gray" />
		</visual>
		<inertial>
			<origin xyz="0 0 ${tailLength/2}" rpy="0 0 0" />
			<mass value="${tailLinkMass}" />
			<inertia ixx="${1e-04/(tailNum*tailNum)}" ixy="0" ixz="0" iyy="${1e-04/(tailNum*tailNum)}" iyz="0" izz="${1e-04/(tailNum*tailNum)}" />
		</inertial>
	</link>

	<gazebo reference="tail_link_7">
		<material>Gazebo/Gray</material>
	</gazebo>

	<link name="tail_link_8">
		<visual>
			<origin rpy="0 0 0" xyz="0 0 ${tailLength/2}" />
			<geometry>
				<cylinder radius="0.02" length="${tailLength}" />
			</geometry>
			<material name="gray" />
		</visual>
		<inertial>
			<origin xyz="0 0 ${tailLength/2}" rpy="0 0 0" />
			<mass value="${tailLinkMass}" />
			<inertia ixx="${1e-04/(tailNum*tailNum)}" ixy="0" ixz="0" iyy="${1e-04/(tailNum*tailNum)}" iyz="0" izz="${1e-04/(tailNum*tailNum)}" />
		</inertial>
	</link>

	<gazebo reference="tail_link_8">
		<material>Gazebo/Gray</material>
	</gazebo>

	<link name="tail_link_9">
		<visual>
			<origin rpy="0 0 0" xyz="0 0 ${tailLength/2}" />
			<geometry>
				<cylinder radius="0.02" length="${tailLength}" />
			</geometry>
			<material name="gray" />
		</visual>
		<inertial>
			<origin xyz="0 0 ${tailLength/2}" rpy="0 0 0" />
			<mass value="${tailLinkMass}" />
			<inertia ixx="${1e-04/(tailNum*tailNum)}" ixy="0" ixz="0" iyy="${1e-04/(tailNum*tailNum)}" iyz="0" izz="${1e-04/(tailNum*tailNum)}" />
		</inertial>
	</link> 

	<gazebo reference="tail_link_9">
		<material>Gazebo/Gray</material>
	</gazebo> -->
  <link name="tail_mass">
    <visual>
      <origin rpy="0 0 0" xyz="0 0 0"/>
      <geometry>
        <sphere radius="0.04"/>
      </geometry>
      <material name="gray"/>
    </visual>
    <inertial>
      <mass value="0.2764"/>
      <inertia ixx="2.764e-04" ixy="0" ixz="0" iyy="2.764e-04" iyz="0" izz="2.764e-04"/>
    </inertial>
    <collision>
      <origin rpy="0 0 0" xyz=" 0 0 0"/>
      <geometry>
        <sphere radius="0.04"/>
      </geometry>
    </collision>
  </link>
  <gazebo reference="tail_mass">
    <material>Gazebo/Gray</material>
  </gazebo>
  <!-- Tail Joints -->
  <!-- Non-planar Tail -->
  <!--<joint name="body_tail_joint_0" type="revolute">
		<parent link="body" />
		<child link="tail_link_0" />
		<axis xyz="1 0 0" />
		<origin xyz="0 0 0" rpy="0 0 0" />
		<limit effort="50" lower="-1.57" upper="1.57" velocity="40" />
		<dynamics damping="0.0" friction="0.0" />
	</joint>-->
  <!-- Planar Tail -->
  <joint name="body_tail_joint_0" type="revolute">
    <parent link="body"/>
    <child link="tail_link_0"/>
    <axis xyz="0 1 0"/>
    <origin rpy="0 0 0" xyz="0 0 0"/>
    <limit effort="50" lower="-1.57" upper="1.57" velocity="40"/>
    <dynamics damping="0.0" friction="0.0"/>
  </joint>
  <joint name="body_tail_joint_1" type="revolute">
    <parent link="tail_link_0"/>
    <child link="tail_link_1"/>
    <axis xyz="0 1 0"/>
    <origin rpy="0 0 0" xyz="0 0 0.146933333333"/>
    <limit effort="50" lower="-1.57" upper="1.57" velocity="40"/>
    <dynamics damping="0.0" friction="0.0"/>
  </joint>
  <joint name="body_tail_joint_2" type="revolute">
    <parent link="tail_link_1"/>
    <child link="tail_link_2"/>
    <axis xyz="0 1 0"/>
    <origin rpy="0 0 0" xyz="0 0 0.146933333333"/>
    <limit effort="50" lower="-1.57" upper="1.57" velocity="40"/>
    <dynamics damping="0.0" friction="0.0"/>
  </joint>
  <joint name="body_tail_joint_3" type="revolute">
    <parent link="tail_link_2"/>
    <child link="tail_link_3"/>
    <axis xyz="0 1 0"/>
    <origin rpy="0 0 0" xyz="0 0 0.146933333333"/>
    <limit effort="50" lower="-1.57" upper="1.57" velocity="40"/>
    <dynamics damping="0.0" friction="0.0"/>
  </joint>
  <joint name="body_tail_joint_4" type="revolute">
    <parent link="tail_link_3"/>
    <child link="tail_link_4"/>
    <axis xyz="0 1 0"/>
    <origin rpy="0 0 0" xyz="0 0 0.146933333333"/>
    <limit effort="50" lower="-1.57" upper="1.57" velocity="40"/>
    <dynamics damping="0.0" friction="0.0"/>
  </joint>
  <joint name="body_tail_joint_5" type="revolute">
    <parent link="tail_link_4"/>
    <child link="tail_link_5"/>
    <axis xyz="0 1 0"/>
    <origin rpy="0 0 0" xyz="0 0 0.146933333333"/>
    <limit effort="50" lower="-1.57" upper="1.57" velocity="40"/>
    <dynamics damping="0.0" friction="0.0"/>
  </joint>
  <!--
	<joint name="body_tail_joint_6" type="revolute">
		<parent link="tail_link_5" />
		<child link="tail_link_6" />
		<axis xyz="0 1 0" />
		<origin xyz="0 0 ${tailLength}" rpy="0 0 0" />
		<limit effort="50" lower="-1.57" upper="1.57" velocity="40" />
		<dynamics damping="0.0" friction="0.0" />
	</joint>

	<joint name="body_tail_joint_7" type="revolute">
		<parent link="tail_link_6" />
		<child link="tail_link_7" />
		<axis xyz="0 1 0" />
		<origin xyz="0 0 ${tailLength}" rpy="0 0 0" />
		<limit effort="50" lower="-1.57" upper="1.57" velocity="40" />
		<dynamics damping="0.0" friction="0.0" />
	</joint>

	<joint name="body_tail_joint_8" type="revolute">
		<parent link="tail_link_7" />
		<child link="tail_link_8" />
		<axis xyz="0 1 0" />
		<origin xyz="0 0 ${tailLength}" rpy="0 0 0" />
		<limit effort="50" lower="-1.57" upper="1.57" velocity="40" />
		<dynamics damping="0.0" friction="0.0" />
	</joint>

	<joint name="body_tail_joint_9" type="revolute">
		<parent link="tail_link_8" />
		<child link="tail_link_9" />
		<axis xyz="0 1 0" />
		<origin xyz="0 0 ${tailLength}" rpy="0 0 0" />
		<limit effort="50" lower="-1.57" upper="1.57" velocity="40" />
		<dynamics damping="0.0" friction="0.0" />
	</joint> -->
  <joint name="tail_link_mass_joint" type="fixed">
    <parent link="tail_link_5"/>
    <child link="tail_mass"/>
    <origin xyz="0 0 0.146933333333"/>
    <dynamic damping="0.0" friction="0.0"/>
  </joint>
  <!-- Transmission Elements Required for Gazebo Control -->
  <transmission name="transmission_body_tail_joint_0">
    <type>transmission_interface/SimpleTransmission</type>
    <joint name="body_tail_joint_0">
      <hardwareInterface>hardware_interface/EffortJointInterface</hardwareInterface>
    </joint>
    <actuator name="motor_body_tail_joint_0">
      <hardwareInterface>hardware_interface/EffortJointInterface</hardwareInterface>
      <mechanicalReduction>1</mechanicalReduction>
    </actuator>
  </transmission>
  <transmission name="transmission_body_tail_joint_1">
    <type>transmission_interface/SimpleTransmission</type>
    <joint name="body_tail_joint_1">
      <hardwareInterface>hardware_interface/EffortJointInterface</hardwareInterface>
    </joint>
    <actuator name="motor_body_tail_joint_1">
      <hardwareInterface>hardware_interface/EffortJointInterface</hardwareInterface>
      <mechanicalReduction>1</mechanicalReduction>
    </actuator>
  </transmission>
  <transmission name="transmission_body_tail_joint_2">
    <type>transmission_interface/SimpleTransmission</type>
    <joint name="body_tail_joint_2">
      <hardwareInterface>hardware_interface/EffortJointInterface</hardwareInterface>
    </joint>
    <actuator name="motor_body_tail_joint_2">
      <hardwareInterface>hardware_interface/EffortJointInterface</hardwareInterface>
      <mechanicalReduction>1</mechanicalReduction>
    </actuator>
  </transmission>
  <transmission name="transmission_body_tail_joint_3">
    <type>transmission_interface/SimpleTransmission</type>
    <joint name="body_tail_joint_3">
      <hardwareInterface>hardware_interface/EffortJointInterface</hardwareInterface>
    </joint>
    <actuator name="motor_body_tail_joint_3">
      <hardwareInterface>hardware_interface/EffortJointInterface</hardwareInterface>
      <mechanicalReduction>1</mechanicalReduction>
    </actuator>
  </transmission>
  <transmission name="transmission_body_tail_joint_4">
    <type>transmission_interface/SimpleTransmission</type>
    <joint name="body_tail_joint_4">
      <hardwareInterface>hardware_interface/EffortJointInterface</hardwareInterface>
    </joint>
    <actuator name="motor_body_tail_joint_4">
      <hardwareInterface>hardware_interface/EffortJointInterface</hardwareInterface>
      <mechanicalReduction>1</mechanicalReduction>
    </actuator>
  </transmission>
  <transmission name="transmission_body_tail_joint_5">
    <type>transmission_interface/SimpleTransmission</type>
    <joint name="body_tail_joint_5">
      <hardwareInterface>hardware_interface/EffortJointInterface</hardwareInterface>
    </joint>
    <actuator name="motor_body_tail_joint_5">
      <hardwareInterface>hardware_interface/EffortJointInterface</hardwareInterface>
      <mechanicalReduction>1</mechanicalReduction>
    </actuator>
  </transmission>
  <!--
	<transmission name="transmission_body_tail_joint_6">
		<type>transmission_interface/SimpleTransmission</type>
		<joint name="body_tail_joint_6">
			<hardwareInterface>hardware_interface/EffortJointInterface</hardwareInterface>
		</joint>
		<actuator name="motor_body_tail_joint_6">
			<hardwareInterface>hardware_interface/EffortJointInterface</hardwareInterface>
			<mechanicalReduction>1</mechanicalReduction>
		</actuator>
	</transmission>

	<transmission name="transmission_body_tail_joint_7">
		<type>transmission_interface/SimpleTransmission</type>
		<joint name="body_tail_joint_7">
			<hardwareInterface>hardware_interface/EffortJointInterface</hardwareInterface>
		</joint>
		<actuator name="motor_body_tail_joint_7">
			<hardwareInterface>hardware_interface/EffortJointInterface</hardwareInterface>
			<mechanicalReduction>1</mechanicalReduction>
		</actuator>
	</transmission>

	<transmission name="transmission_body_tail_joint_8">
		<type>transmission_interface/SimpleTransmission</type>
		<joint name="body_tail_joint_8">
			<hardwareInterface>hardware_interface/EffortJointInterface</hardwareInterface>
		</joint>
		<actuator name="motor_body_tail_joint_8">
			<hardwareInterface>hardware_interface/EffortJointInterface</hardwareInterface>
			<mechanicalReduction>1</mechanicalReduction>
		</actuator>
	</transmission>

	<transmission name="transmission_body_tail_joint_9">
		<type>transmission_interface/SimpleTransmission</type>
		<joint name="body_tail_joint_9">
			<hardwareInterface>hardware_interface/EffortJointInterface</hardwareInterface>
		</joint>
		<actuator name="motor_body_tail_joint_9">
			<hardwareInterface>hardware_interface/EffortJointInterface</hardwareInterface>
			<mechanicalReduction>1</mechanicalReduction>
		</actuator>
	</transmission> -->
</robot>
